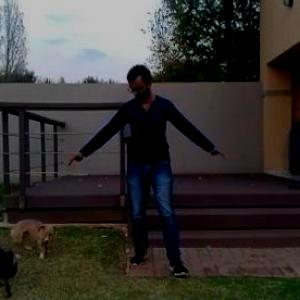land: (84, 58, 270, 282)
